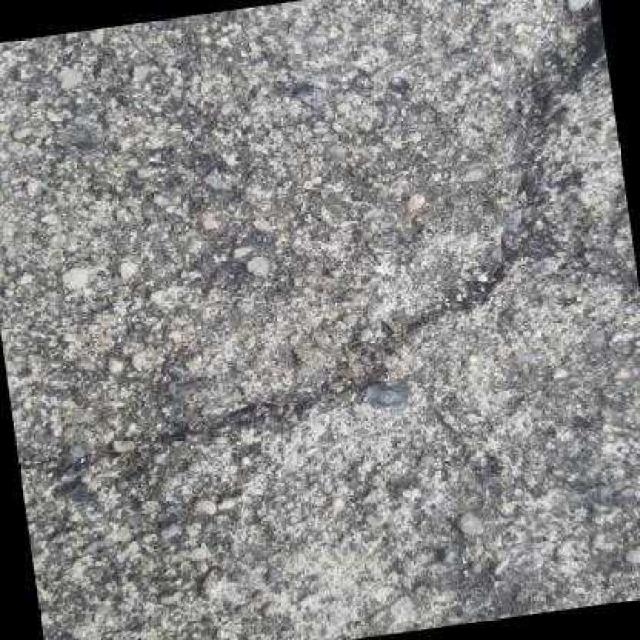D00: (38, 0, 639, 498)
